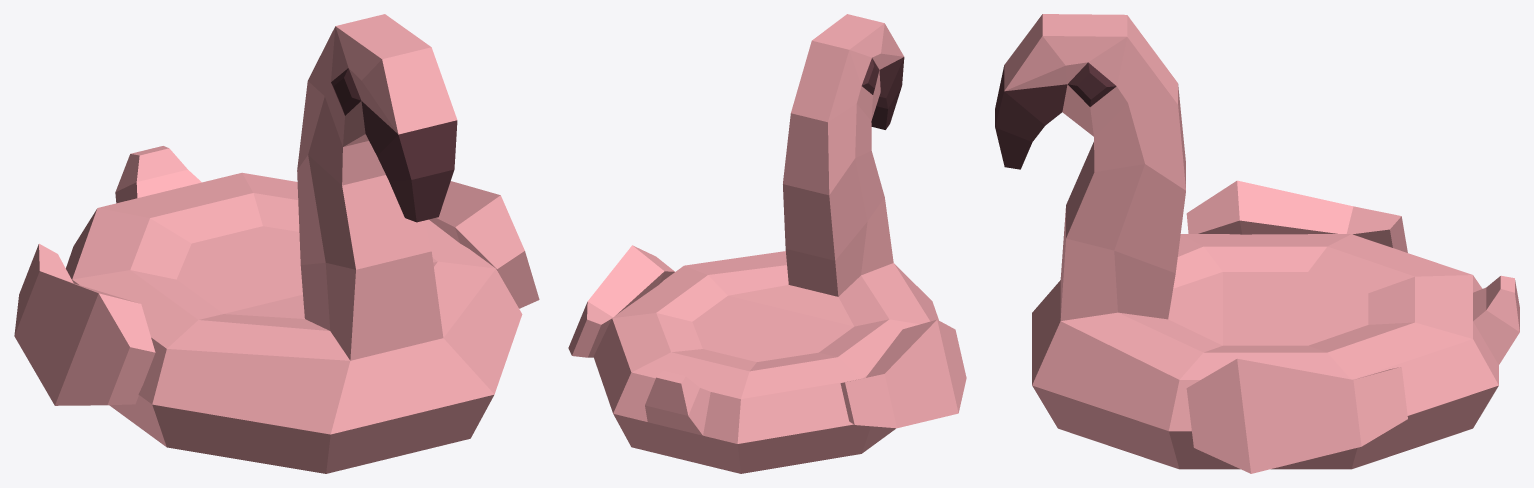
The model's file is inflatable-flamingo-big.fbx.
3 renders of one model, left to right at view 1: azimuth 30°, elevation 25°; view 2: azimuth 150°, elevation 25°; view 3: azimuth 270°, elevation 25°, orthographic. The views are drawn at different scales.
Parts seen in each view (by area): view 1: inflatable-flamingo-big; view 2: inflatable-flamingo-big; view 3: inflatable-flamingo-big.
Part boxes in pixels (<box>): inflatable-flamingo-big: <box>14,14,539,473</box>; inflatable-flamingo-big: <box>568,14,966,473</box>; inflatable-flamingo-big: <box>995,14,1519,473</box>.
Size of the model in its own units: 2.12 by 1.81 by 2.24.
